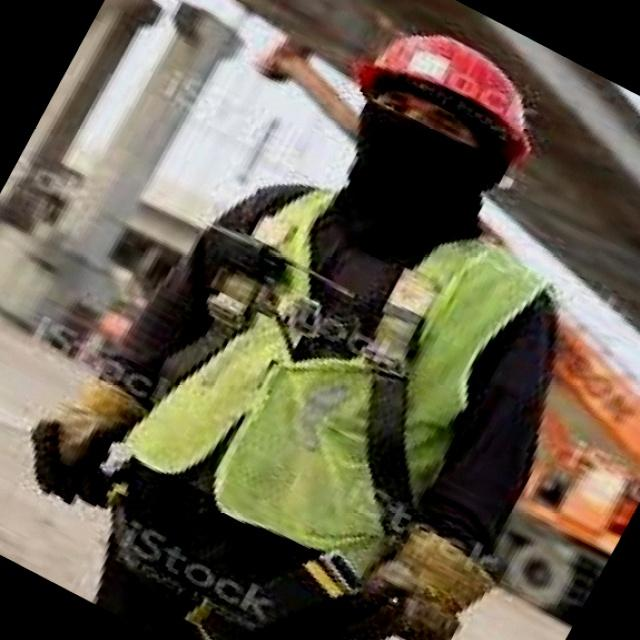helmet: (357, 30, 538, 177)
safety_vest: (86, 176, 568, 562)
